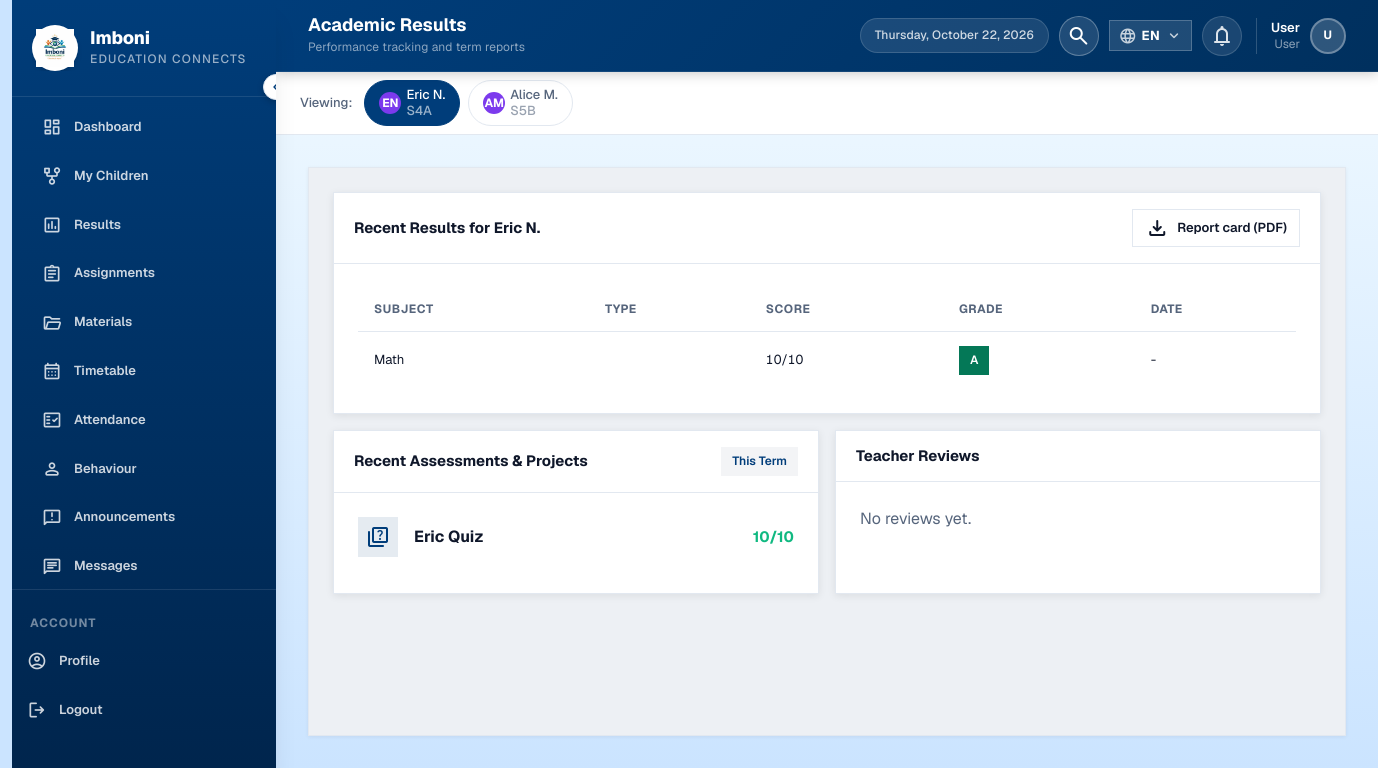
Test case: ParentResults › switching the child tab re-fetches data scoped to that child only
Check: the text "Eric Quiz" is shown, box [414, 526, 484, 547]
Click the text "Alice M." at (534, 95), box [510, 87, 558, 103]
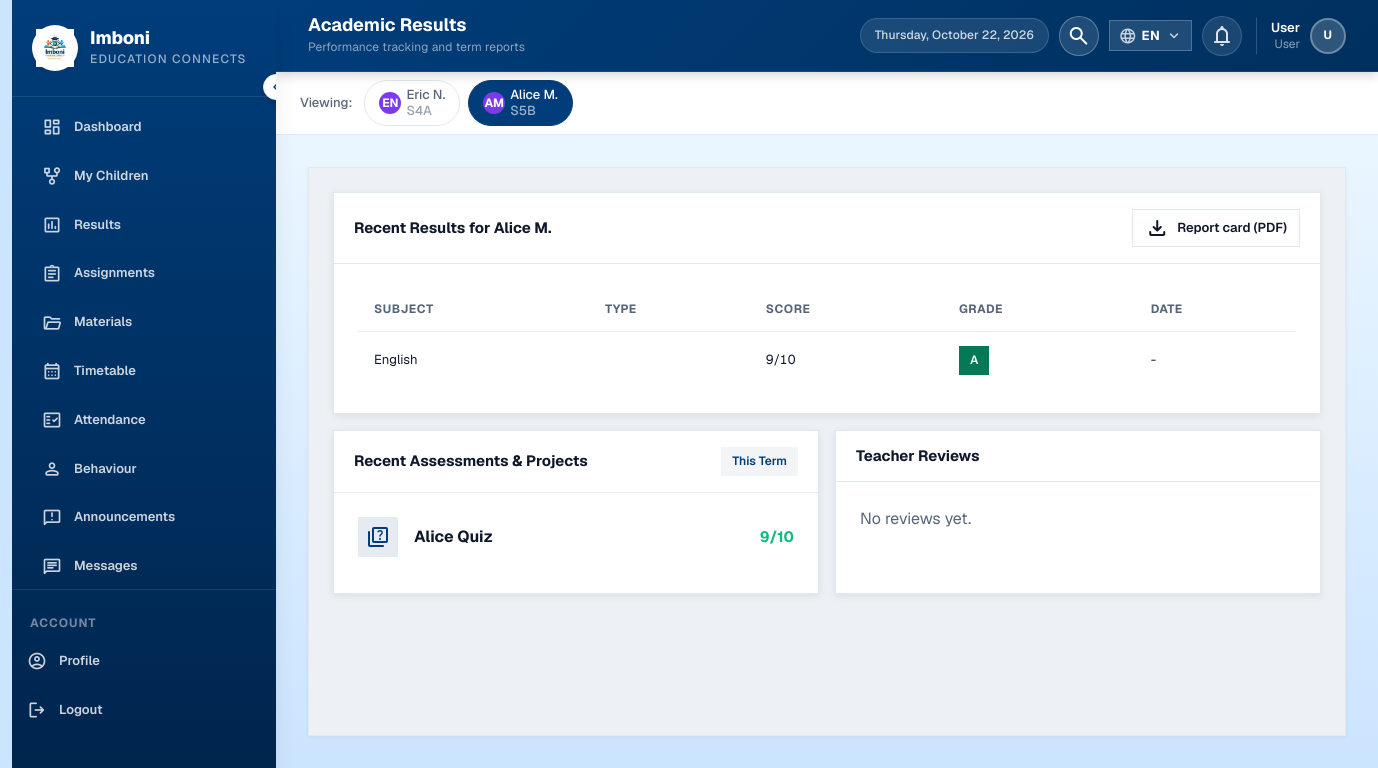
Check: the text "Alice Quiz" is shown, box [414, 526, 493, 547]
Check: the text "Eric Quiz" is gone
